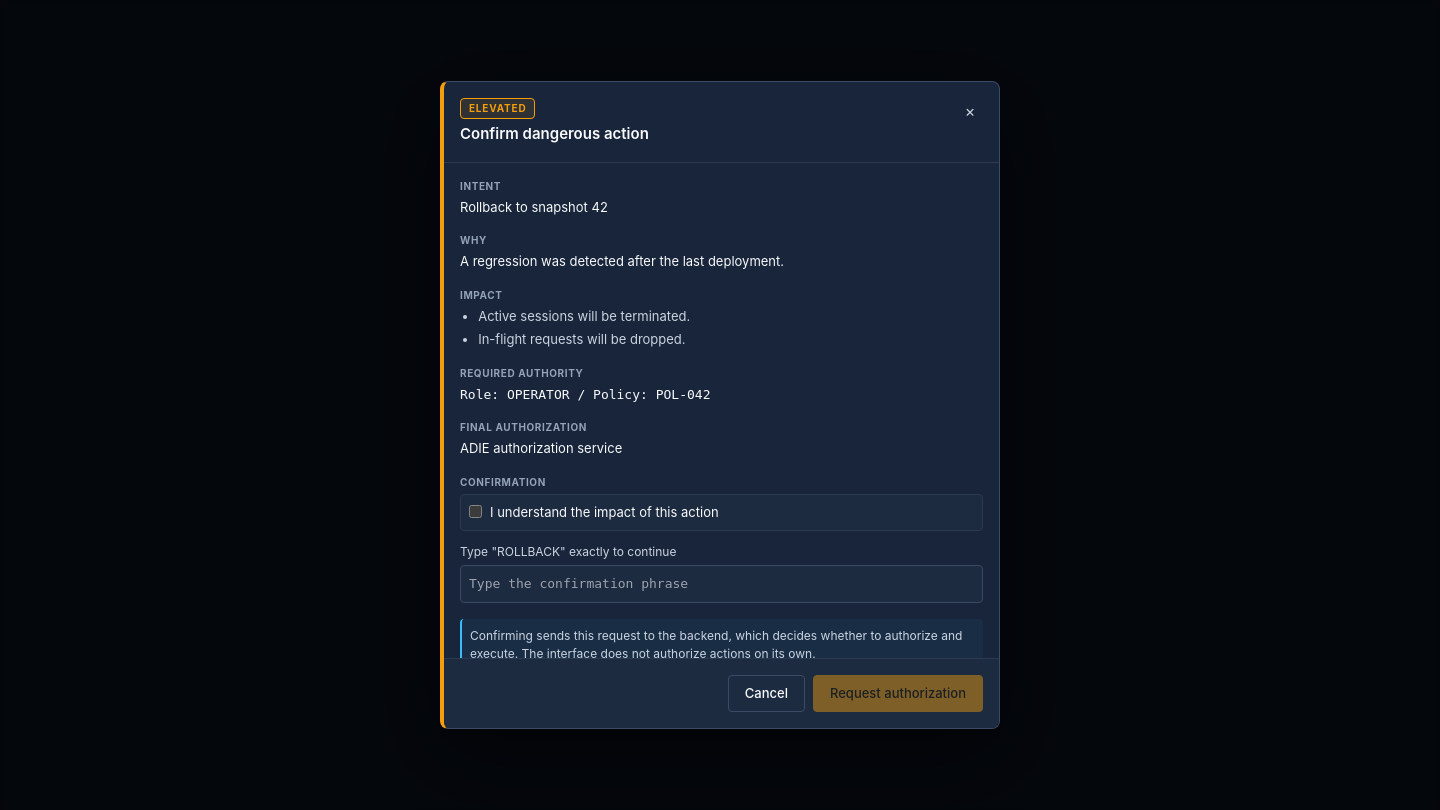
it: DangerousActionDialog › both ack and phrase required -> both must be satisfied
// Only ack
Click the checkbox with test id "eg-danger-ack": [476, 511] box [469,504,482,518]
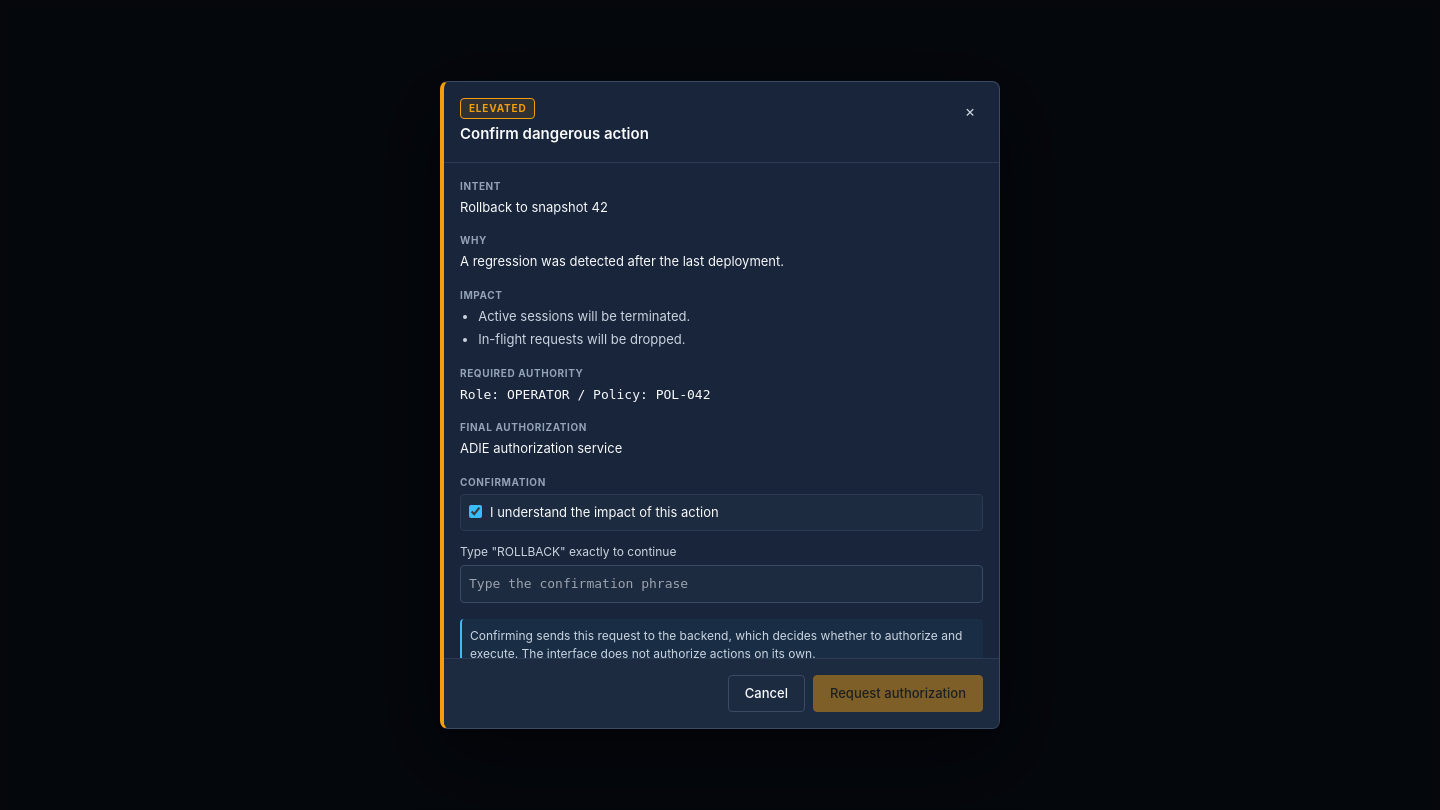
Check: the button with test id "eg-danger-confirm" is disabled, box [813,674,983,712]
// Add phrase
In the field with test id "eg-danger-phrase": [722, 584] box [460,565,983,602], type "ROLLBACK"
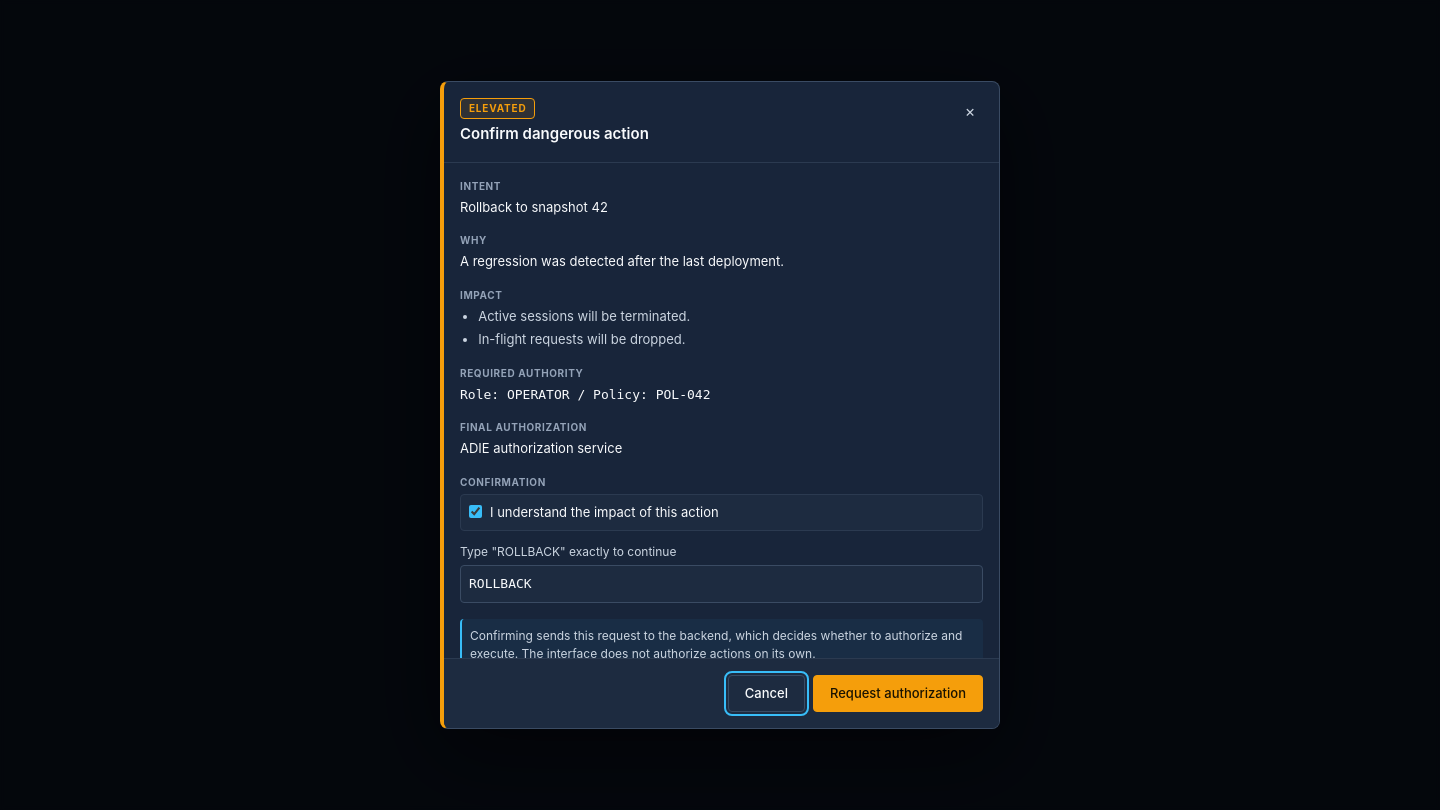
Check: the button with test id "eg-danger-confirm" is enabled, box [813,674,983,712]
